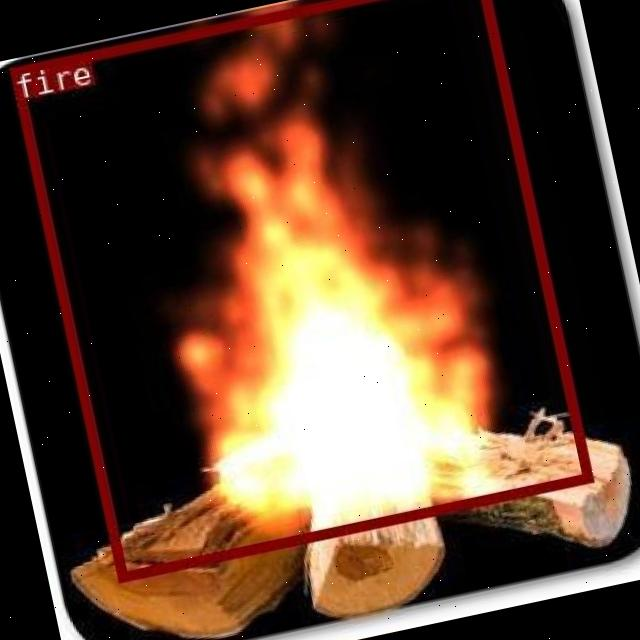fire: (7, 0, 591, 581)
